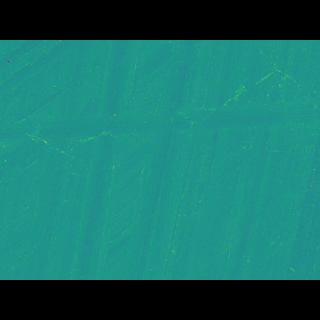Loch: (0, 109, 320, 147), (181, 168, 319, 248)
